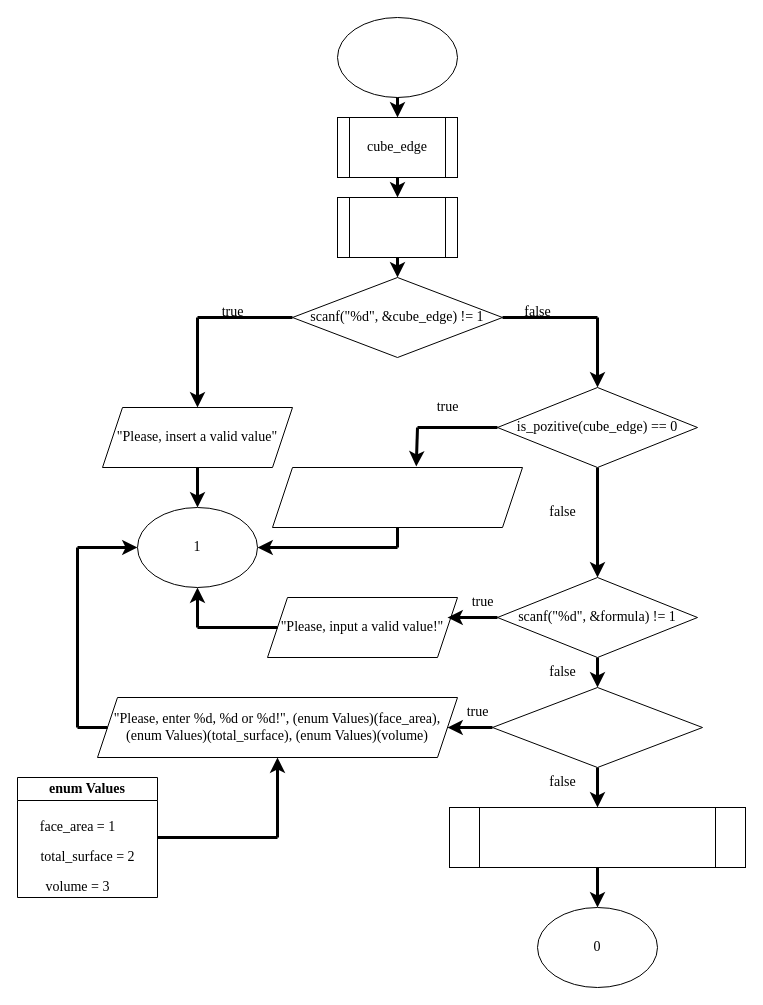
Some shapes in this 763 by 1005 pixel diagram are drawn without their labels. Here are the shapes that lost their labels. From the top down, the centre of each, then its label:
pixel 397 57: Начало
pixel 397 227: formula
pixel 397 497: "Please insert a non-negative number!"
pixel 597 727: is_right_number(formula) == 0
pixel 597 837: formula_selection(formula, cube_edge)
